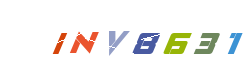1: (164, 0, 244, 80)
3: (164, 0, 244, 80)
6: (136, 0, 216, 80)
8: (106, 0, 186, 80)
I: (37, 0, 117, 80)
N: (79, 0, 159, 80)
V: (91, 0, 171, 80)
